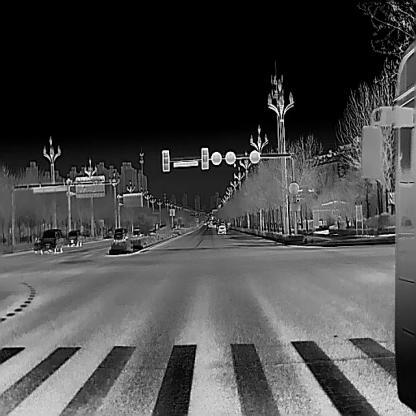car: (360, 38, 416, 412), (40, 228, 63, 253), (66, 228, 82, 246), (113, 227, 128, 241), (132, 225, 144, 236), (217, 224, 226, 234)
crosswalk: (0, 328, 392, 416)
